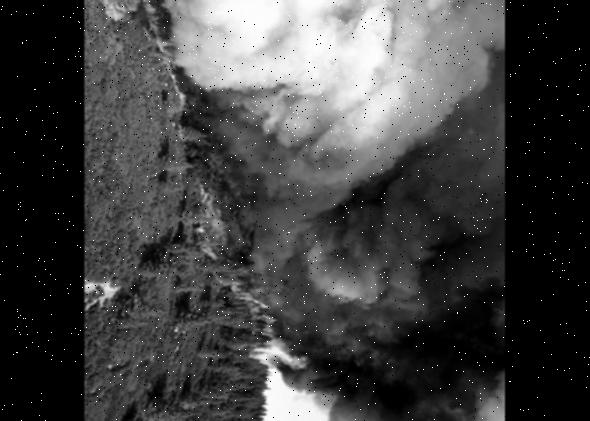fire: (160, 211, 325, 410), (90, 0, 209, 142)
